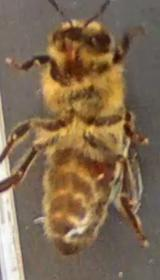varroa_mite: (81, 149, 122, 196)
